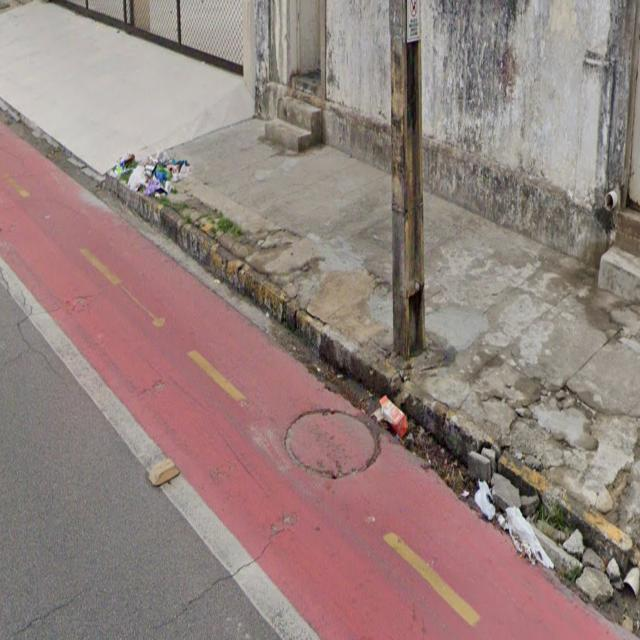Bueiro: (281, 394, 390, 486)
Buraco: (195, 442, 245, 493), (263, 503, 305, 554), (140, 365, 168, 410)
